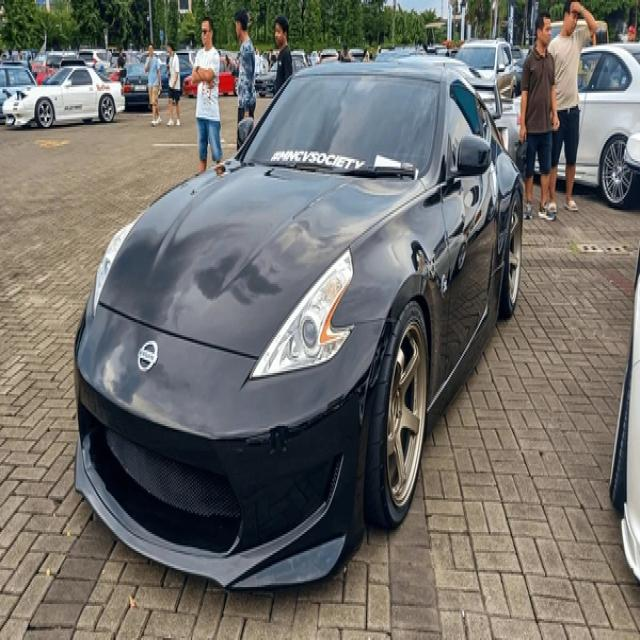nissan: (138, 335, 161, 378)
